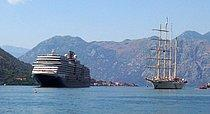Ship: (27, 44, 97, 91)
